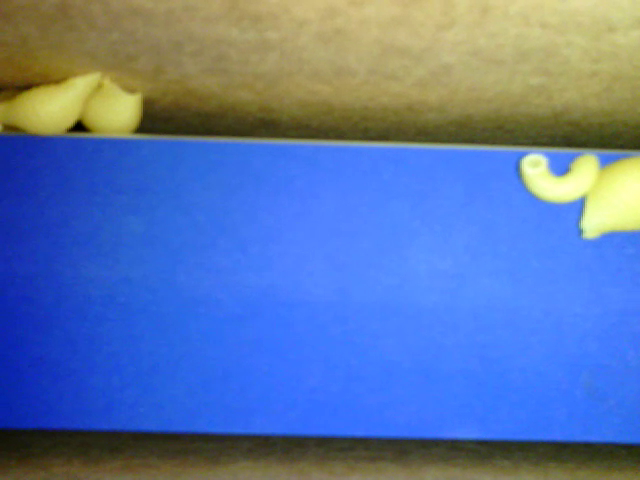elbow: (517, 148, 600, 203)
shell: (1, 64, 104, 136), (578, 156, 639, 239), (83, 74, 144, 136)
